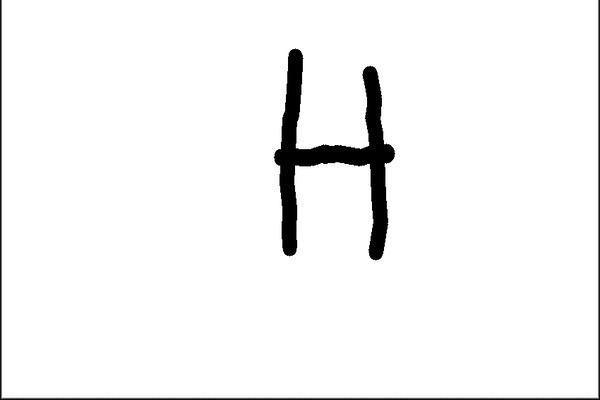H: (269, 42, 400, 272)
